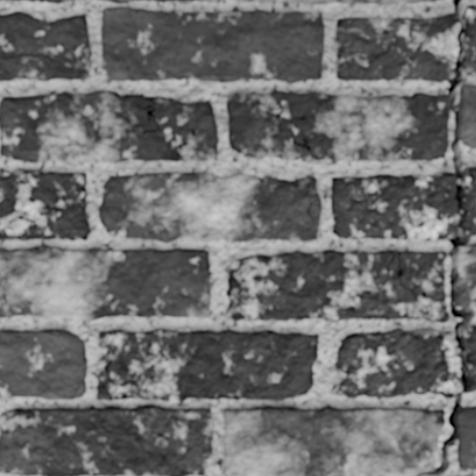brick: (101, 7, 323, 82), (95, 329, 316, 401), (225, 250, 447, 321), (99, 172, 320, 241), (0, 91, 216, 161), (224, 406, 443, 475), (0, 247, 209, 319), (227, 92, 448, 160), (0, 405, 212, 475), (0, 170, 88, 240), (0, 12, 89, 79), (0, 329, 86, 398), (455, 246, 475, 308), (456, 406, 475, 467), (458, 85, 475, 147), (297, 0, 429, 3), (46, 0, 63, 3), (109, 0, 124, 1)
broken_brick: (329, 328, 461, 398), (329, 171, 459, 240), (335, 12, 459, 83), (462, 166, 475, 236), (463, 325, 475, 394), (464, 4, 475, 76)
crack: (417, 0, 475, 474), (396, 250, 429, 303), (290, 182, 321, 220), (376, 249, 395, 293), (102, 349, 117, 399), (135, 361, 156, 396), (1, 275, 14, 316), (133, 408, 160, 417), (329, 474, 342, 475)
